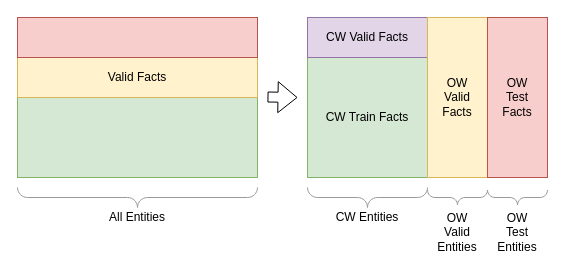
Image size: 575x275. Some labels were removed from this diagram. Here are the shapes that lost their labels. From the top down, the box of each, then its label:
(16, 16, 258, 58): Test Facts
(16, 96, 258, 178): Train Facts
